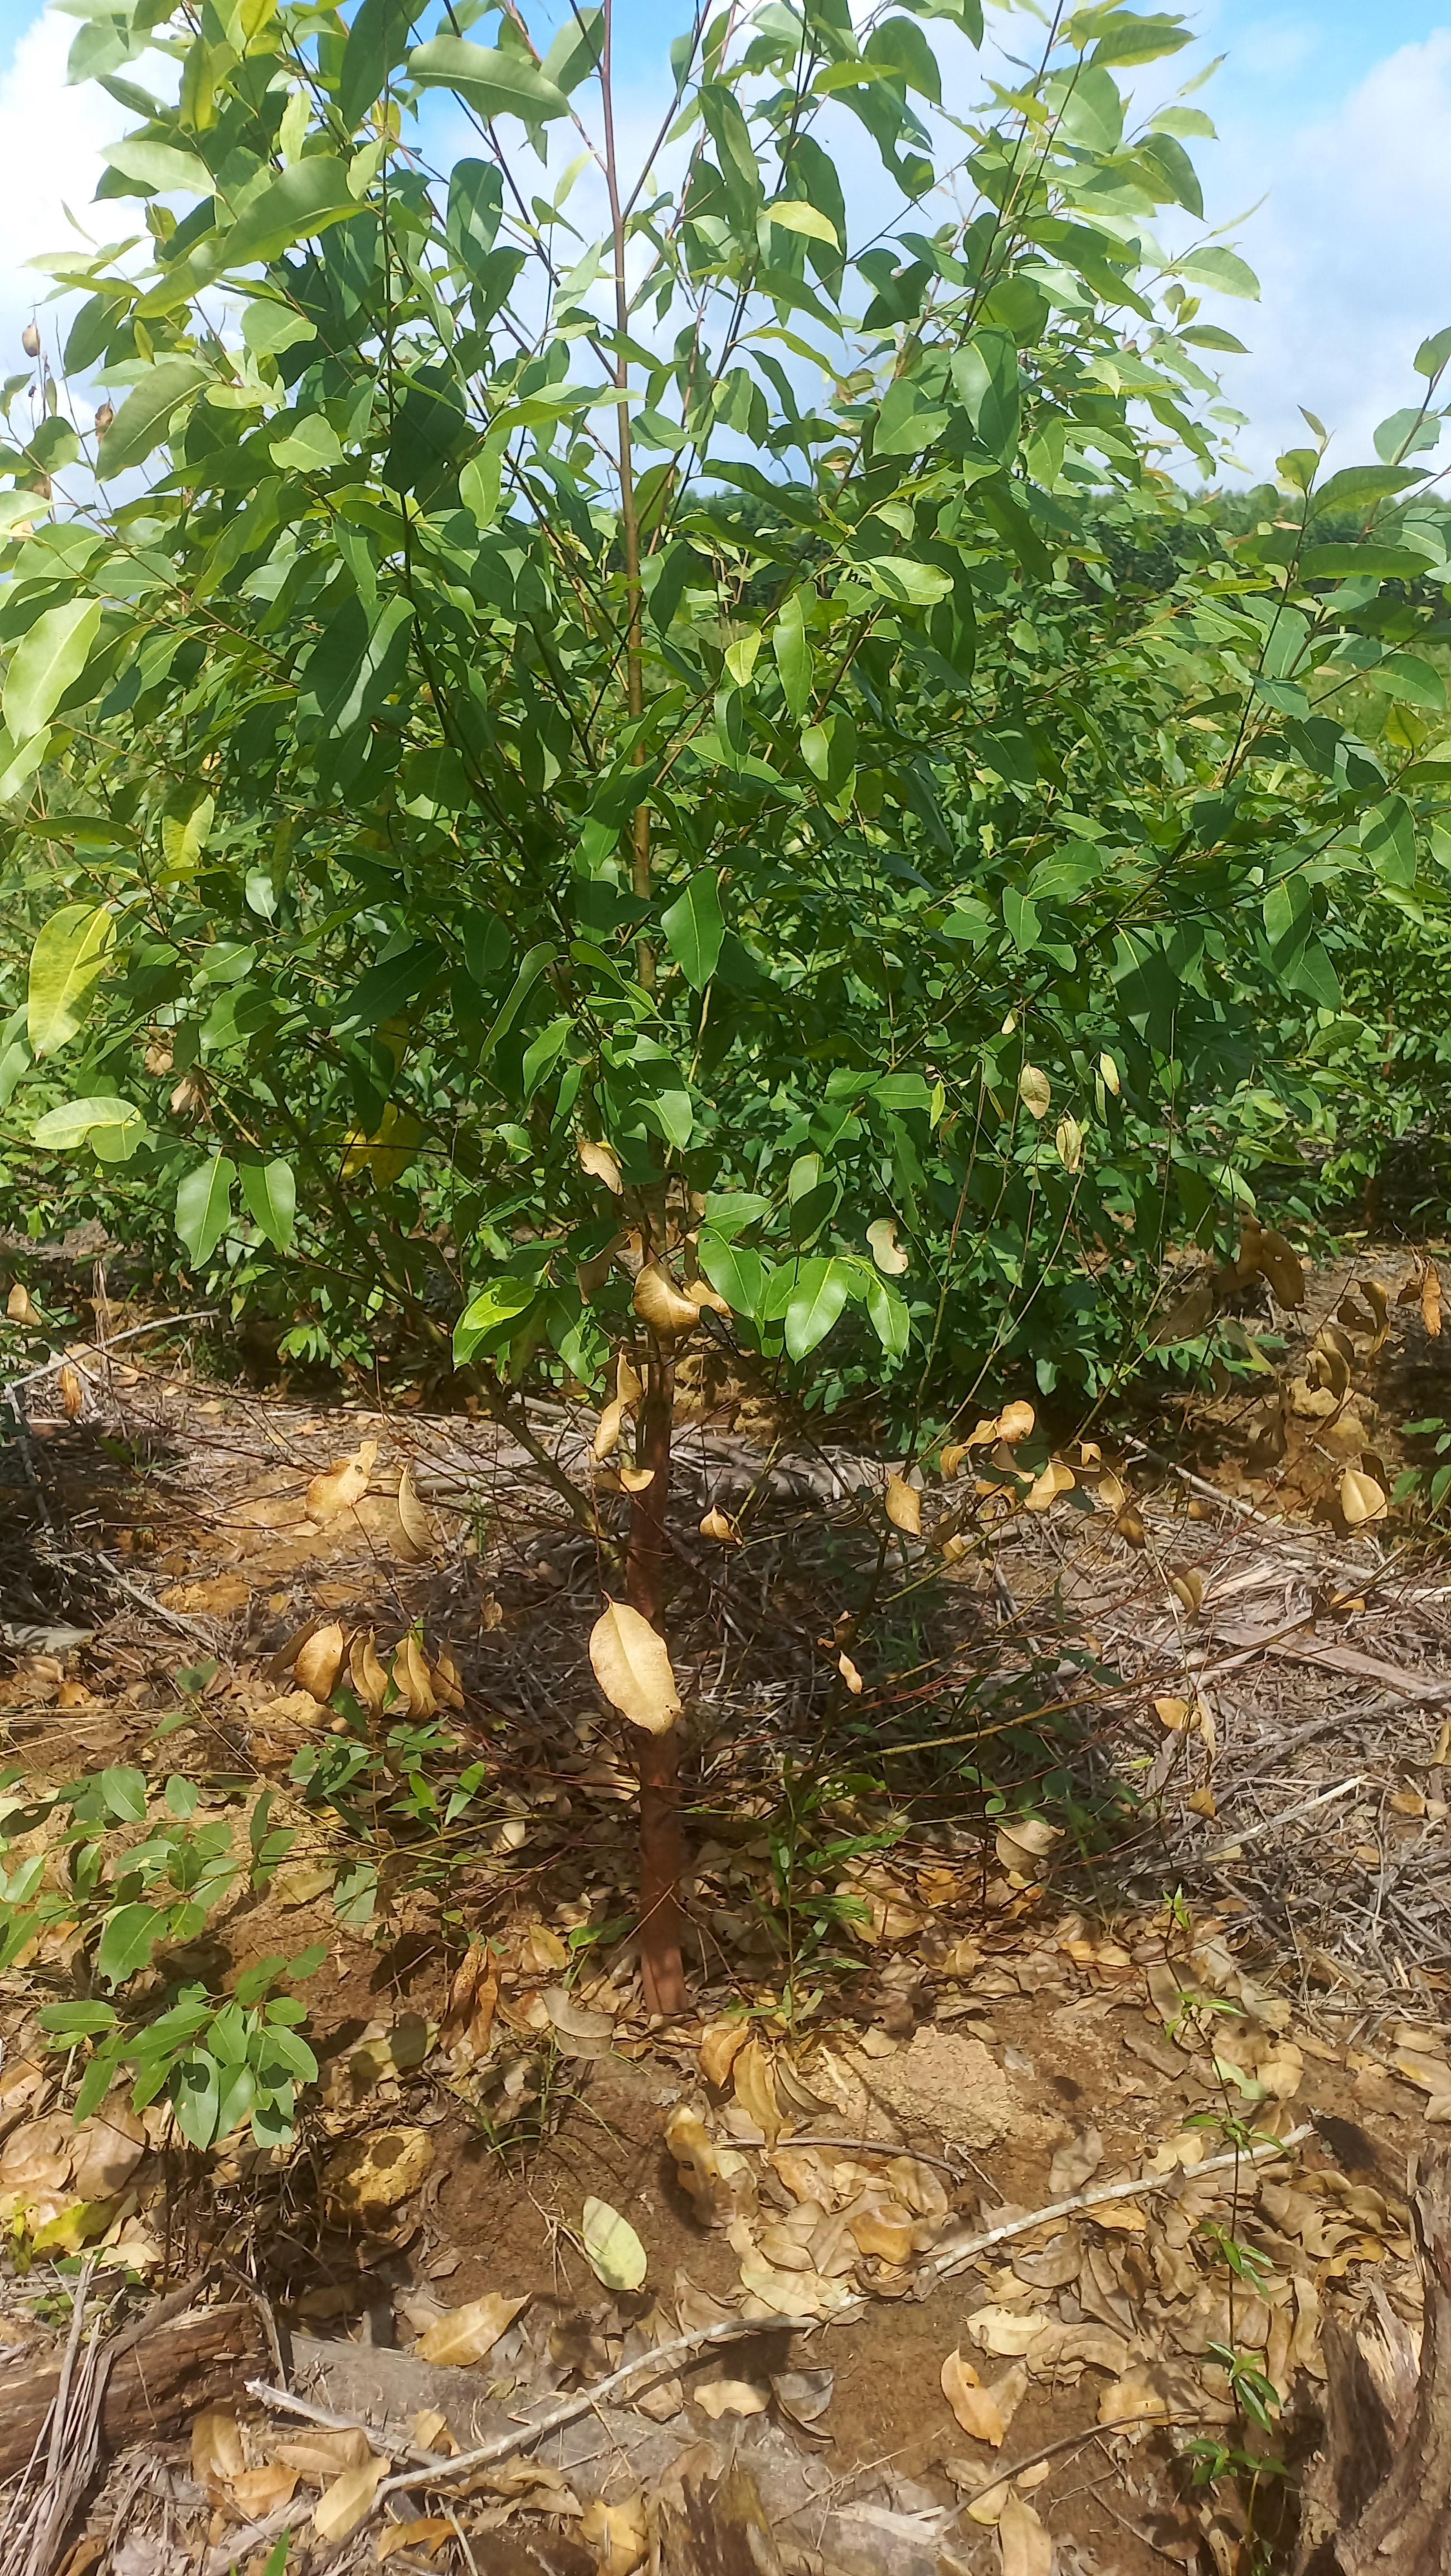Wither Tree Parts: (1233, 1214, 1451, 1568), (871, 1389, 1205, 1598), (580, 1249, 782, 1553), (294, 1470, 465, 1734), (998, 1005, 1120, 1162), (16, 304, 143, 449), (27, 902, 111, 1054), (126, 1012, 216, 1145), (338, 1104, 437, 1191), (469, 1263, 547, 1336), (575, 1136, 628, 1200), (373, 97, 403, 147)
